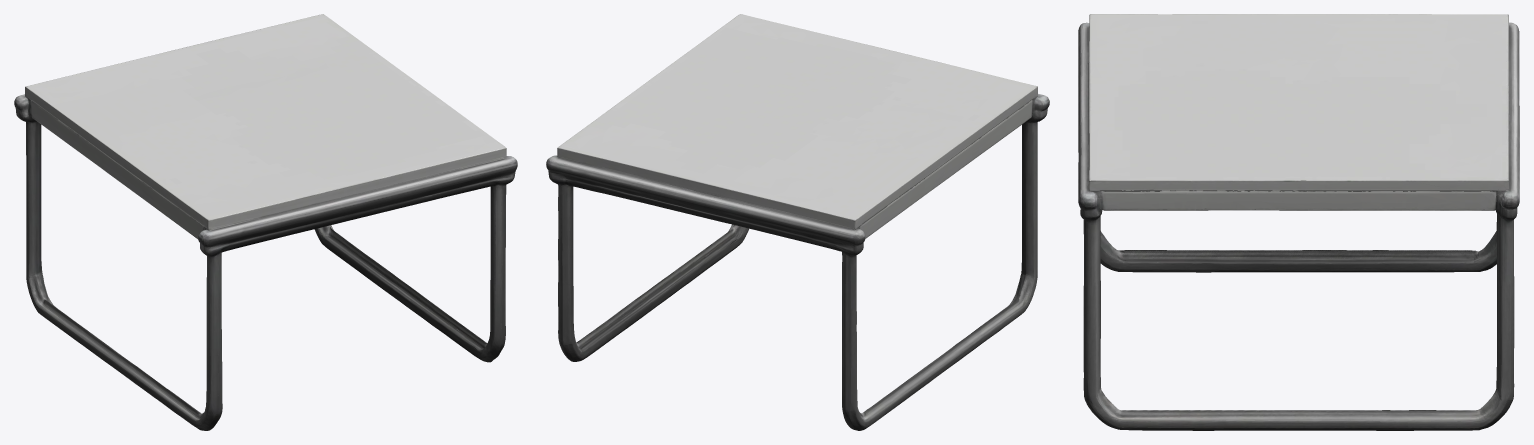
File: table2.glb
3 views of the same model, side by side, from view 1: azimuth 30°, elevation 25°; view 2: azimuth 150°, elevation 25°; view 3: azimuth 270°, elevation 25° (orthographic). The views are drawn at different scales.
Visible parts, largest first — view 1: geometry_0; view 2: geometry_0; view 3: geometry_0.
Part boxes in pixels (x1=…): geometry_0: x1=14, y1=14, x2=517, y2=430; geometry_0: x1=546, y1=14, x2=1049, y2=430; geometry_0: x1=1078, y1=14, x2=1519, y2=430.
Size of the model in its own units: 0.9458 by 0.6357 by 0.9986.
1 material, 1 textured.
